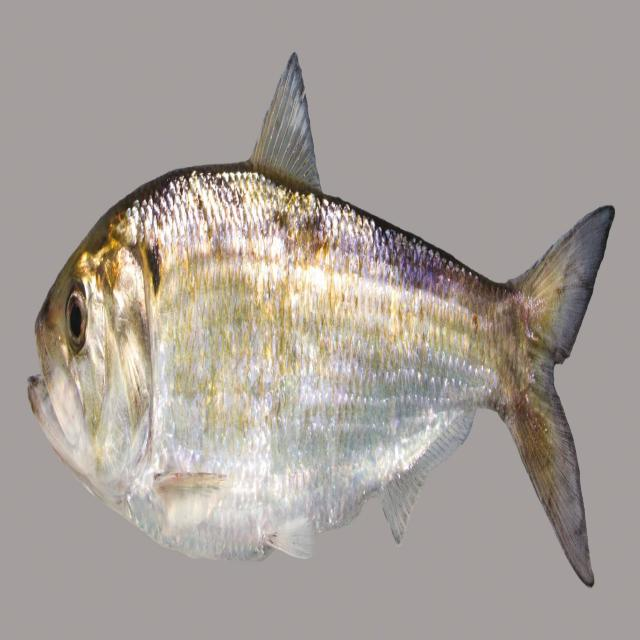Shad - American: (28, 53, 614, 585)
